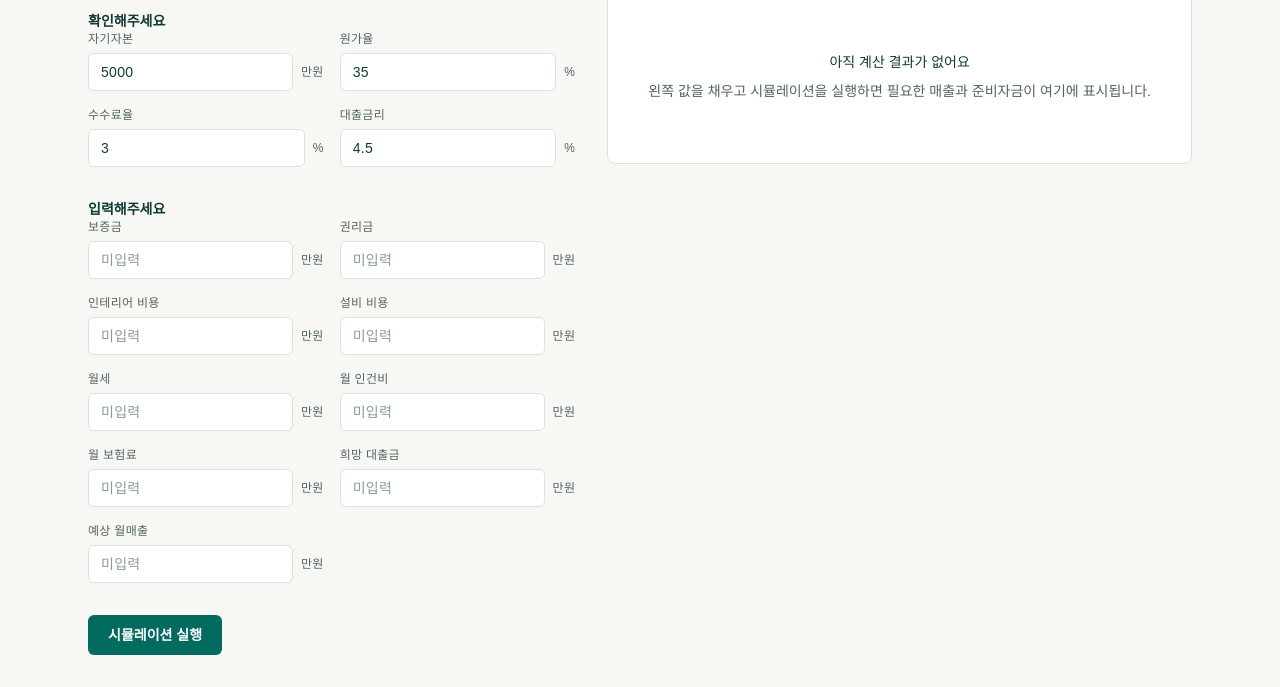
Test: 최초안을 다시 고르면 결과 화면이 최초안 수치로 돌아간다
(page scrolled)
Step 1. Click the button "시뮬레이션 실행" → (155,635), box [88,615,222,655]
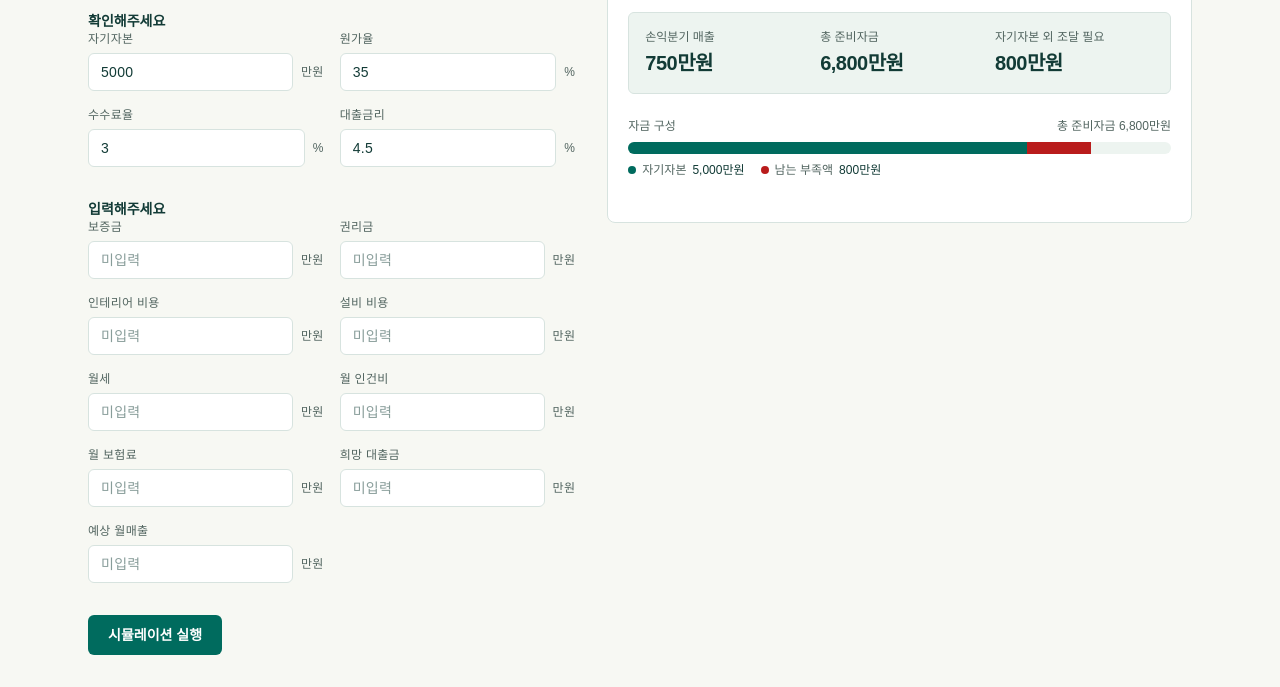
expect the text "자기자본 외 조달 필요" is shown: met, box [995,30,1104,44]
Step 2. Type "100" into the number field labelled "월세 만원" → (190,412), box [88,393,293,431]
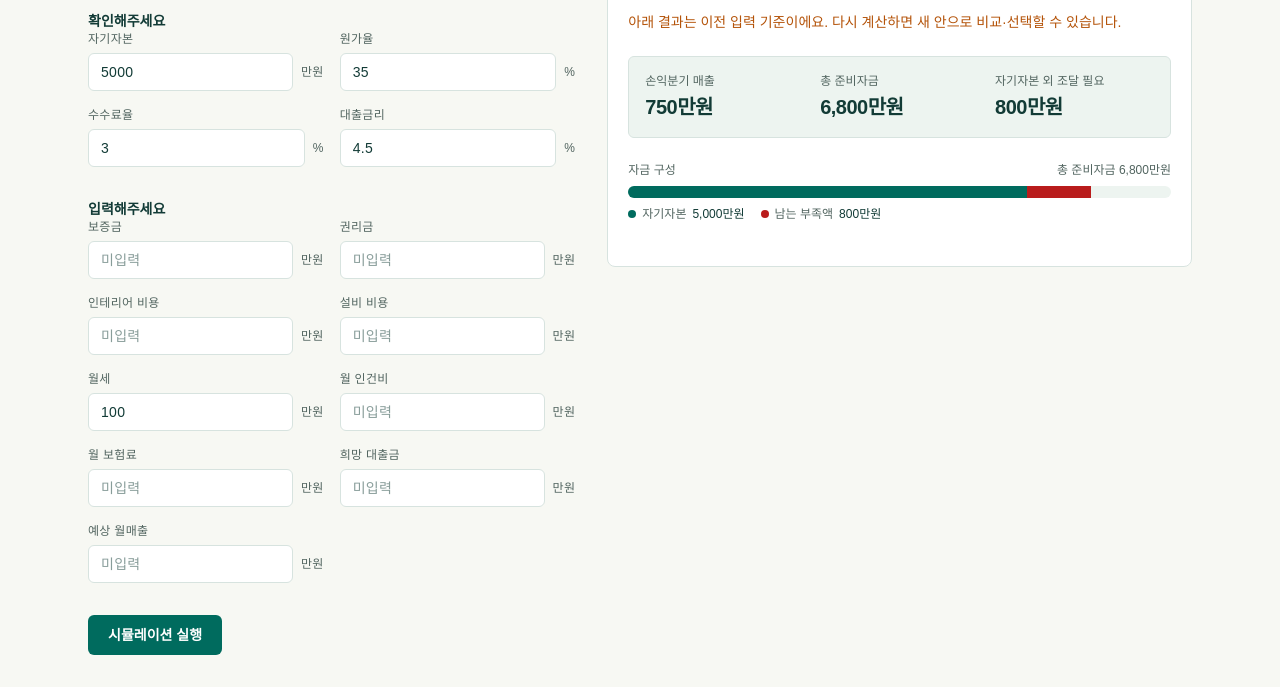
Step 3. Click the button "시뮬레이션 실행" → (155,635), box [88,615,222,655]
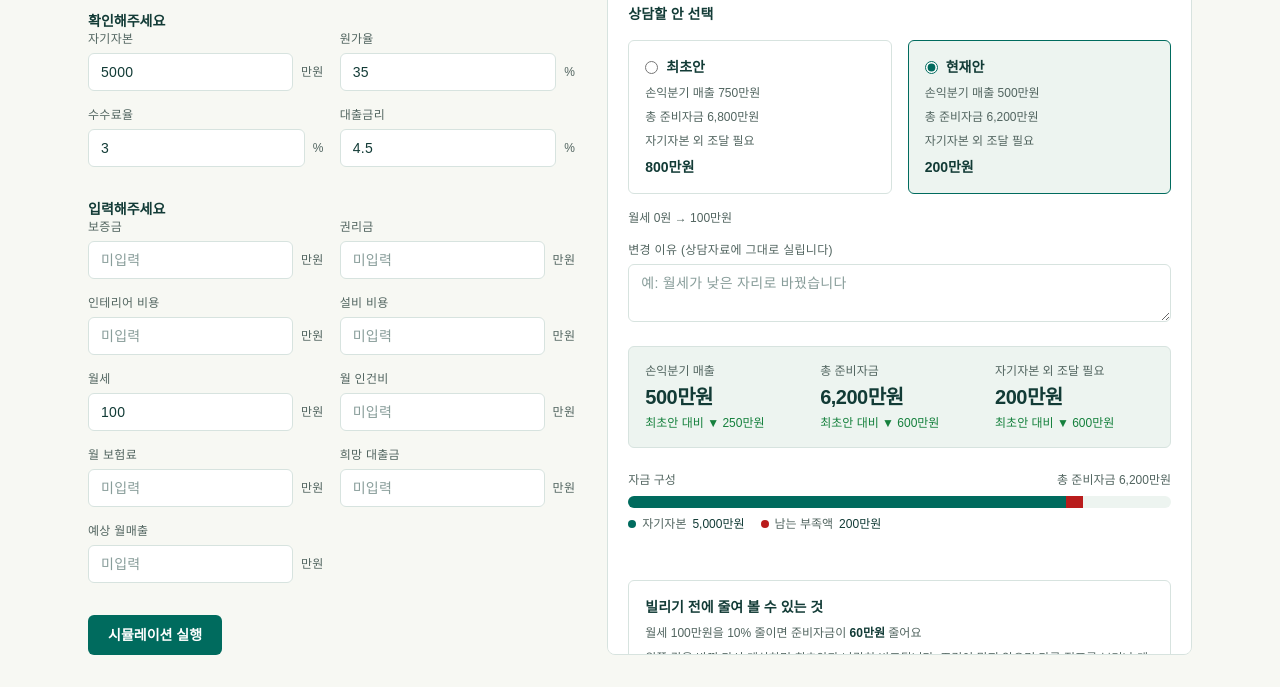
expect the radio button labelled "현재안 손익분기 매출 500만원 총 준비자금 6,200만원 자기자본 외 조달 필요 200만원" is checked: met, box [925,60,938,74]
Step 4. Click the radio button labelled "최초안 손익분기 매출 750만원 총 준비자금 6,800만원 자기자본 외 조달 필요 800만원" → (652,67), box [645,60,658,74]
(page scrolled)
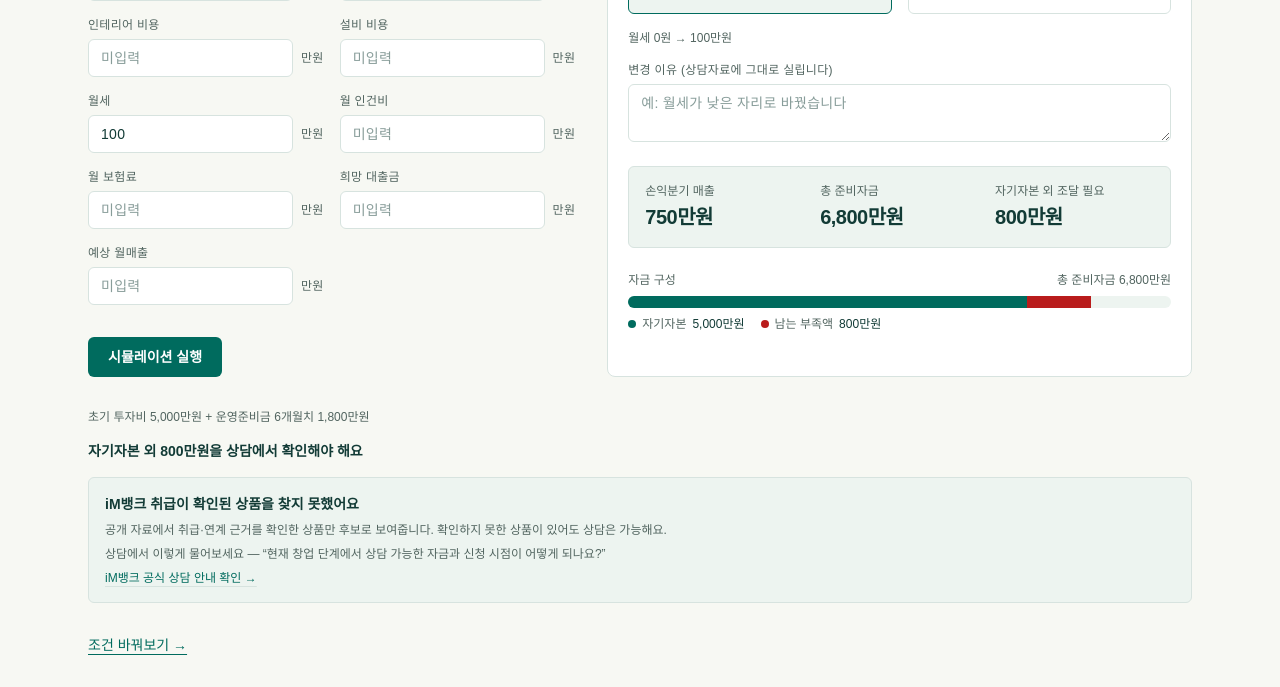
expect the text "자기자본 외 800만원을 상담에서 확인해야 해요" is shown: met, box [88,443,363,459]
